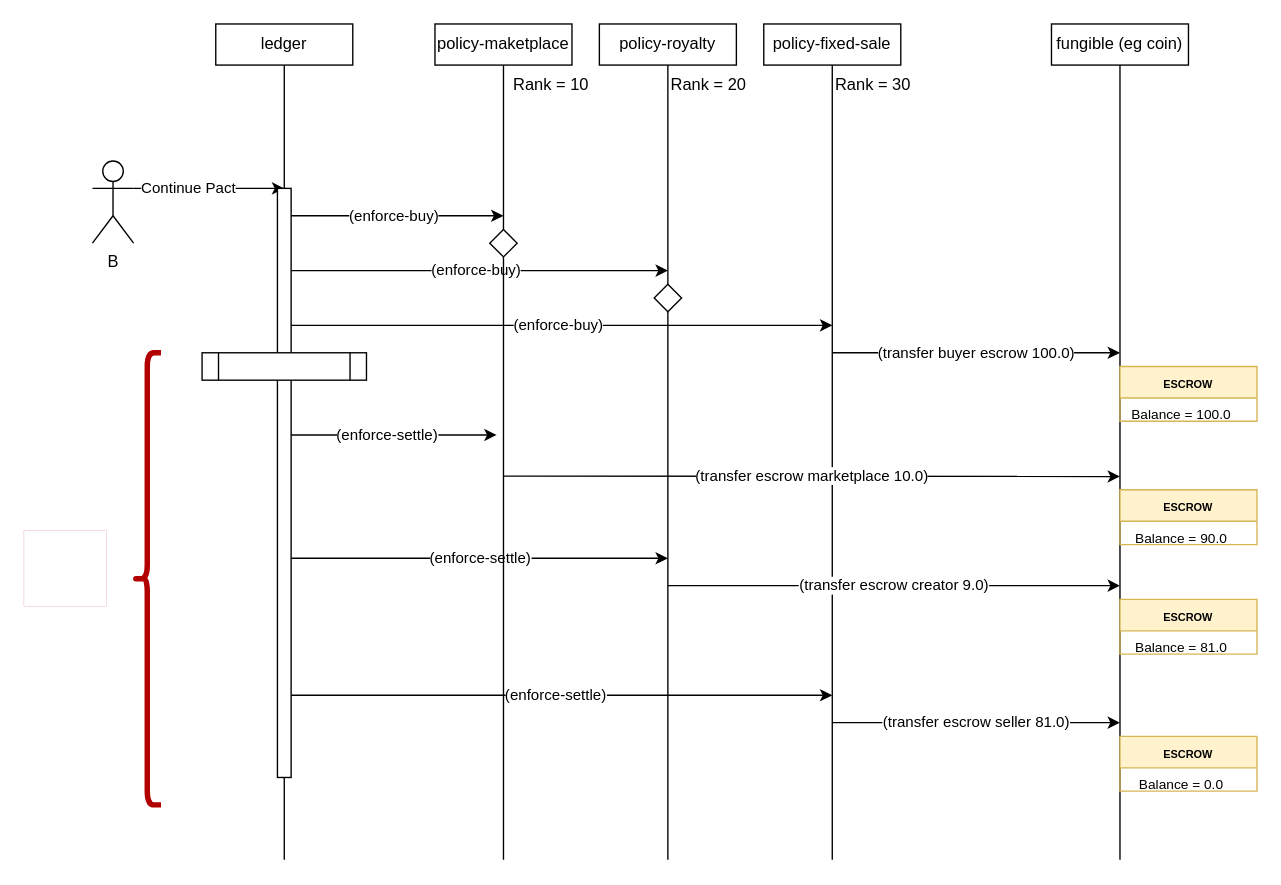
Some shapes in this 1281 by 885 pixel diagram are drawn without their labels. Each missing label, with the centre of its shape:
"Escrow -> B" belongs at (283,365).
"Escrow Account unlocked" belongs at (64,568).
